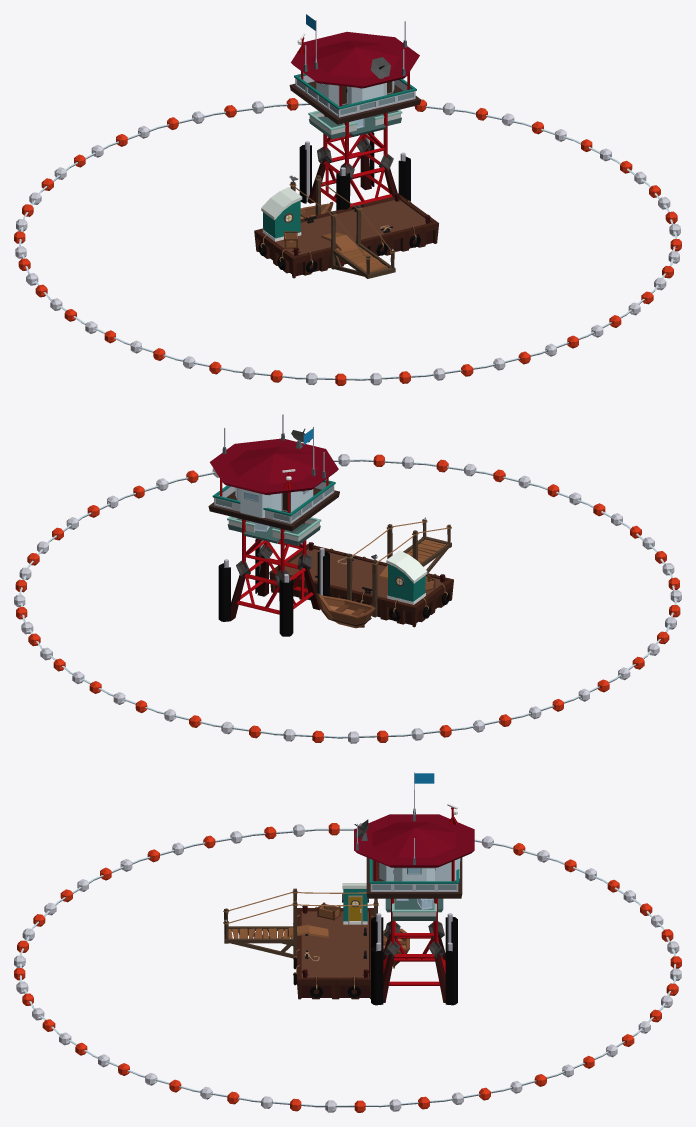
Rendered from environment_of_fighter.glb.
The picture shows the model from 3 angles, top to bottom: view 1: azimuth 30°, elevation 25°; view 2: azimuth 150°, elevation 25°; view 3: azimuth 270°, elevation 25°; orthographic projection.
Parts seen in each view (by area): view 1: Seagull (Standing) (2), Safe_Area; view 2: Seagull (Standing) (2), Safe_Area; view 3: Seagull (Standing) (2), Safe_Area.
Part boxes in pixels (x1=…): Seagull (Standing) (2): x1=254, y1=14, x2=438, y2=278; Safe_Area: x1=14, y1=98, x2=681, y2=385; Seagull (Standing) (2): x1=208, y1=414, x2=453, y2=636; Safe_Area: x1=14, y1=454, x2=681, y2=743; Seagull (Standing) (2): x1=223, y1=772, x2=474, y2=1005; Safe_Area: x1=14, y1=823, x2=681, y2=1112.
Size of the model in its own units: 3420 by 1138 by 3420.
Materials: 2 (2 with a texture image).
